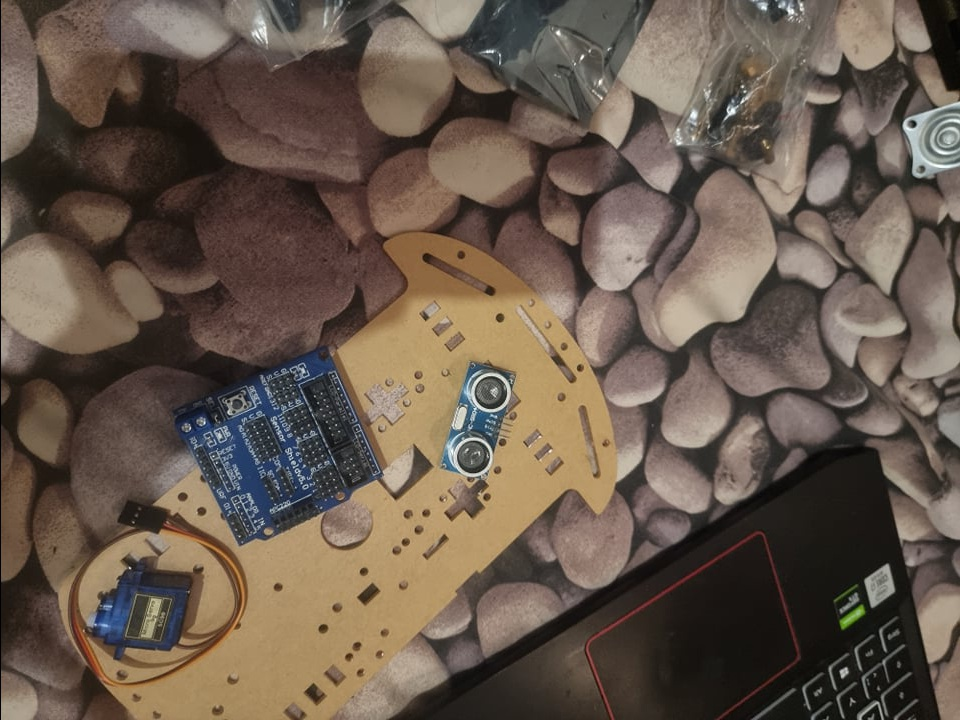5V EXPANSION: (174, 343, 382, 547)
SENSOR: (435, 363, 516, 479)
